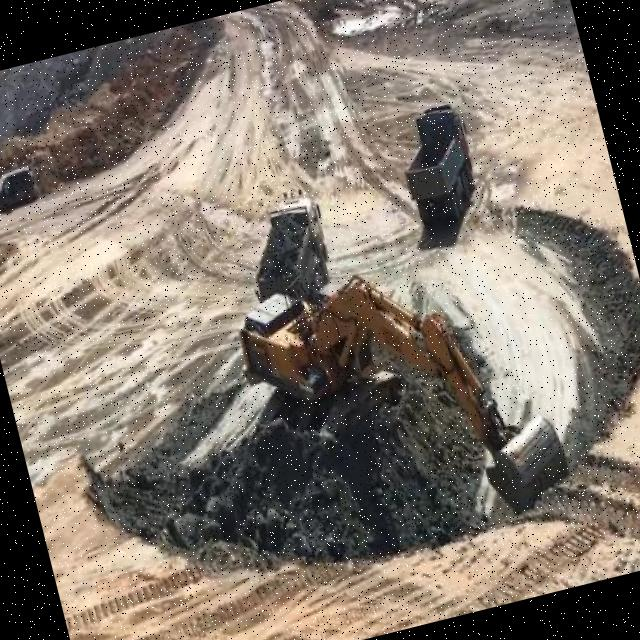Dump Truck: (388, 94, 488, 232), (233, 182, 339, 305)
Excavator: (224, 232, 576, 572)
